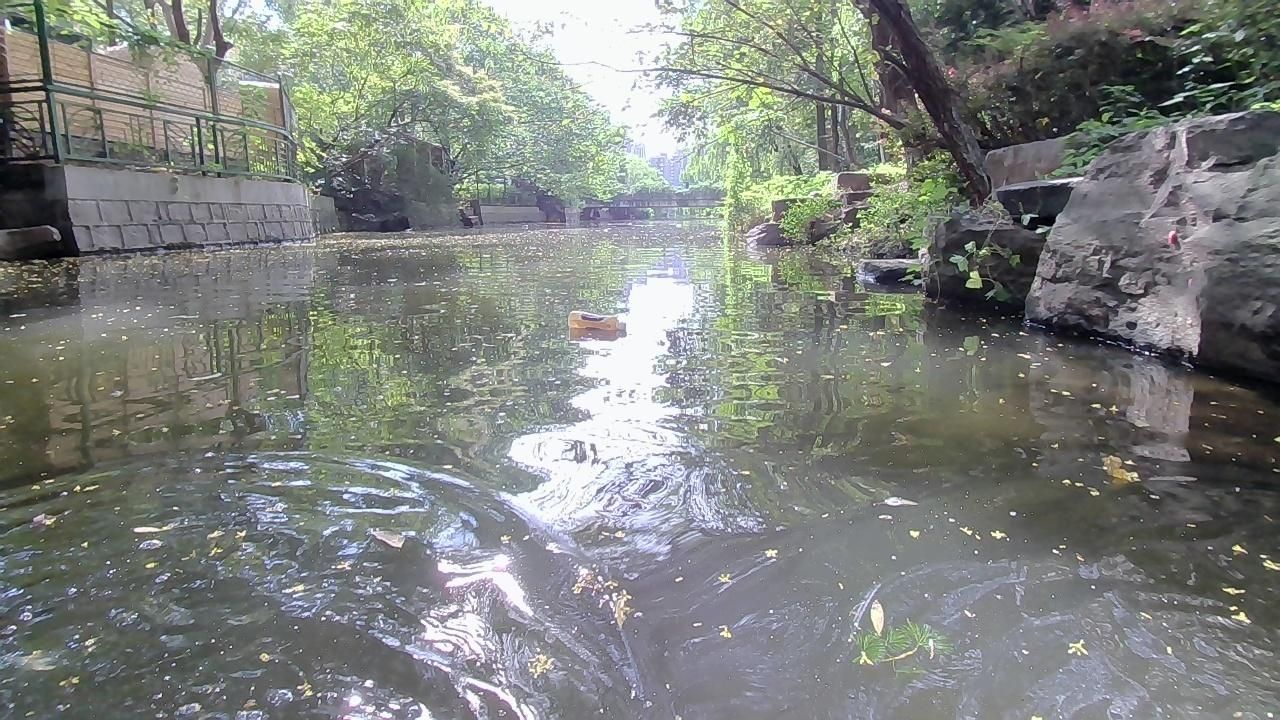bottle: (562, 306, 632, 335)
